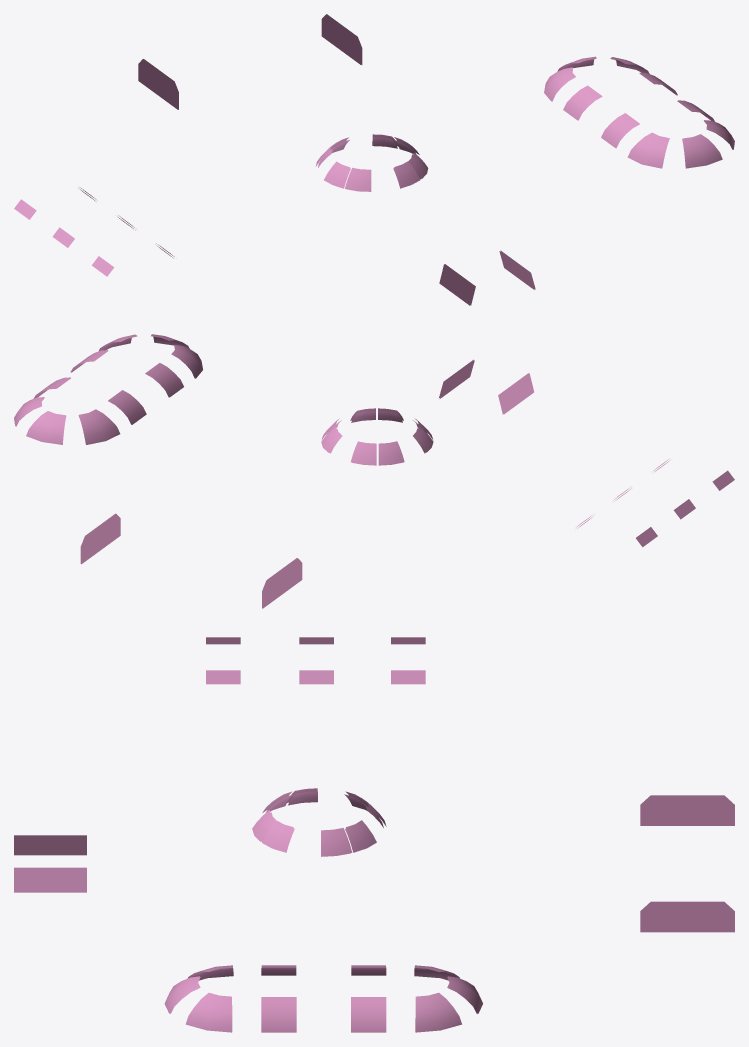
File: Vetri_moduli.FBX
3 renders of one model, top to bottom at view 1: azimuth 30°, elevation 25°; view 2: azimuth 150°, elevation 25°; view 3: azimuth 270°, elevation 25°, orthographic. The views are drawn at different scales.
Parts seen in each view (by area): view 1: Vetri_struttura; view 2: Vetri_struttura; view 3: Vetri_struttura.
Boxes of the visible parts, x1,y1,x2,y2 form: Vetri_struttura: (14,14,734,305); Vetri_struttura: (14,334,734,608); Vetri_struttura: (14,637,734,1032).
Bounding box in the file's own units: 60.19 × 4.81 × 49.86.
